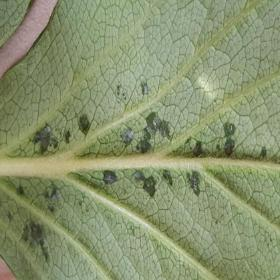Angular Leafspot: (1, 73, 274, 270)
